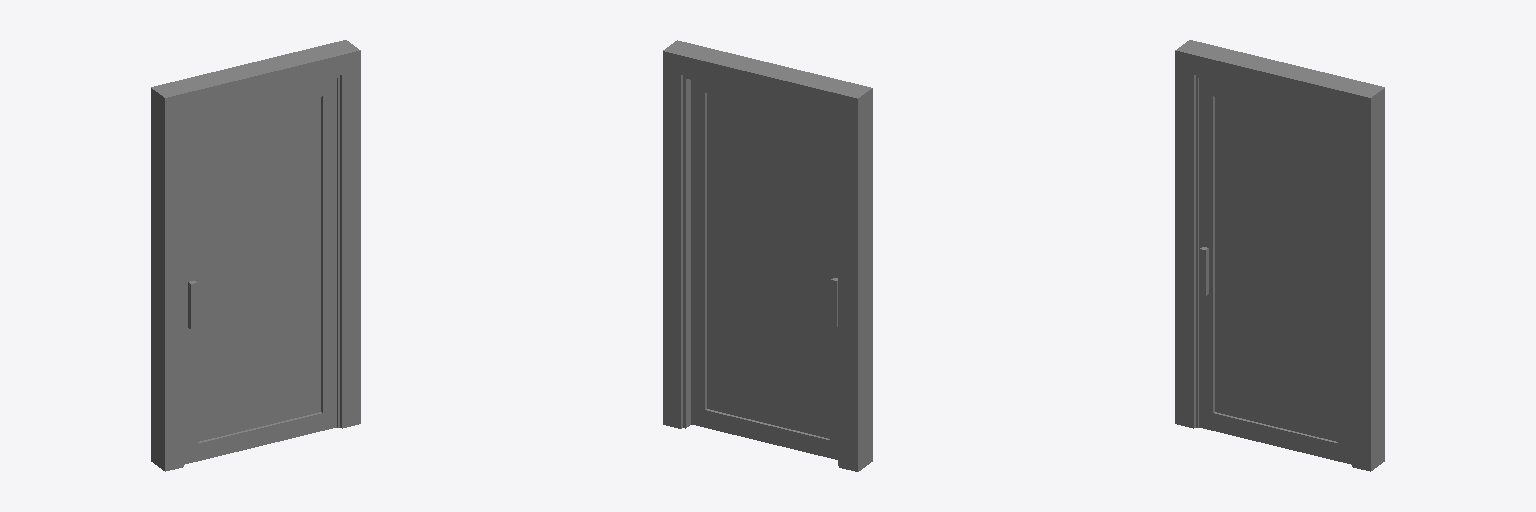
The model's file is door.obj.
3 views of the same model, side by side, from view 1: azimuth 30°, elevation 25°; view 2: azimuth 150°, elevation 25°; view 3: azimuth 330°, elevation 25° (orthographic).
Visible parts, largest first — view 1: Object063, wood_door003, Object064; view 2: Object063, wood_door003, Object064; view 3: Object063, wood_door003, Object064.
Part boxes in pixels (bbox=[...]): Object063: bbox=[185, 78, 336, 463]; wood_door003: bbox=[151, 40, 360, 471]; Object064: bbox=[184, 75, 339, 464]; Object063: bbox=[691, 80, 837, 459]; wood_door003: bbox=[663, 40, 872, 471]; Object064: bbox=[683, 76, 838, 465]; Object063: bbox=[1199, 78, 1350, 463]; wood_door003: bbox=[1175, 40, 1384, 471]; Object064: bbox=[1196, 75, 1351, 464].
Bounding box in the file's own units: 115 × 210 × 15.77.